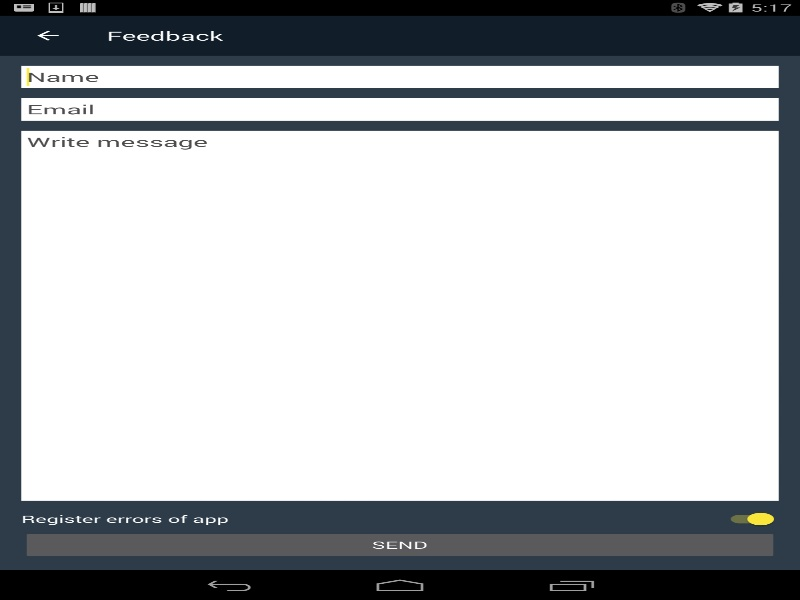Button: (21, 530, 778, 560), (10, 15, 85, 55)
Input: (21, 130, 778, 500), (21, 65, 778, 88), (21, 98, 778, 120)
